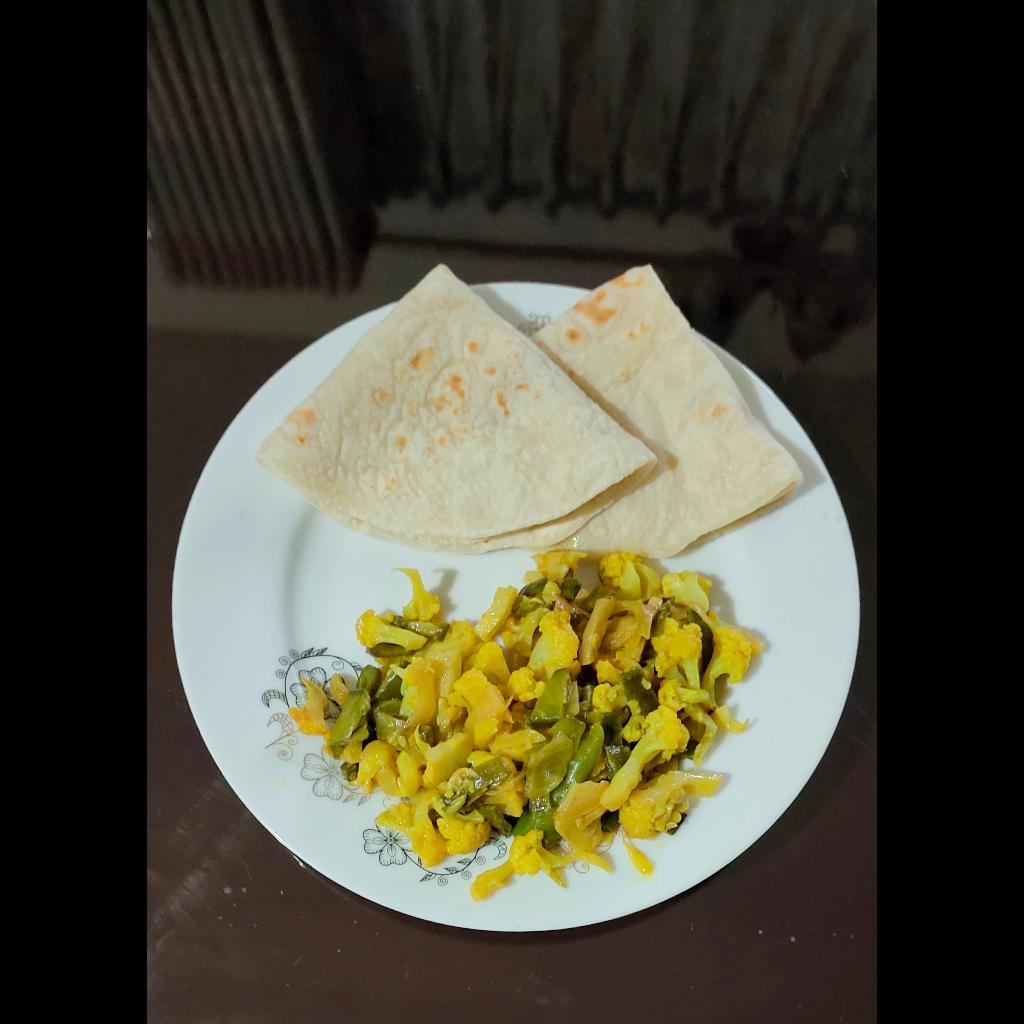ruti: (259, 253, 806, 563)
vegetable: (291, 551, 756, 900)
